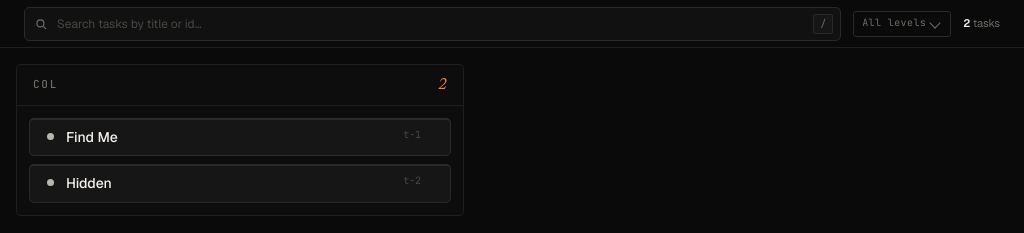
Test: KanbanBoard › clear filters › clears all filters when clear button is clicked
// Apply search
Step 1. Type "Find" into the search field labelled "Search tasks by title or id" → (433, 24), box [24, 6, 841, 40]
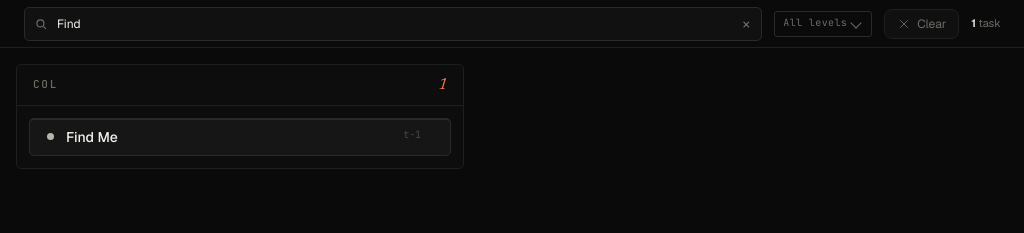
Check: the button "Hidden" is gone
// Click clear
Step 2. Click the button "Clear" → (922, 24), box [884, 8, 959, 38]
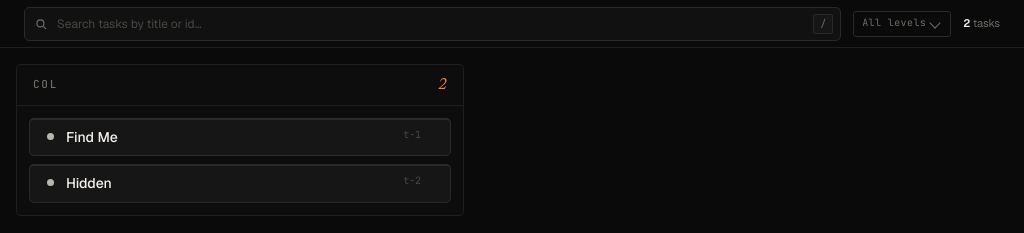
Check: the heading "Find Me" is shown, box [66, 128, 118, 146]
Check: the heading "Hidden" is shown, box [66, 174, 112, 192]
